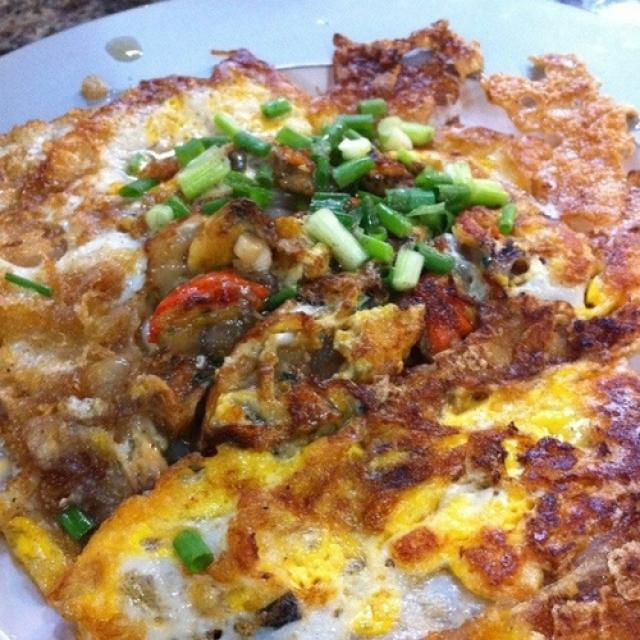炸货点心: (9, 32, 621, 631)
蛋糕甜品: (9, 32, 621, 631)
